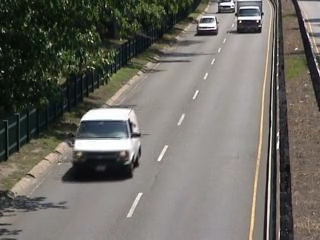car: (195, 15, 220, 37), (217, 1, 237, 15)
truck: (64, 105, 145, 179), (237, 1, 265, 34)
